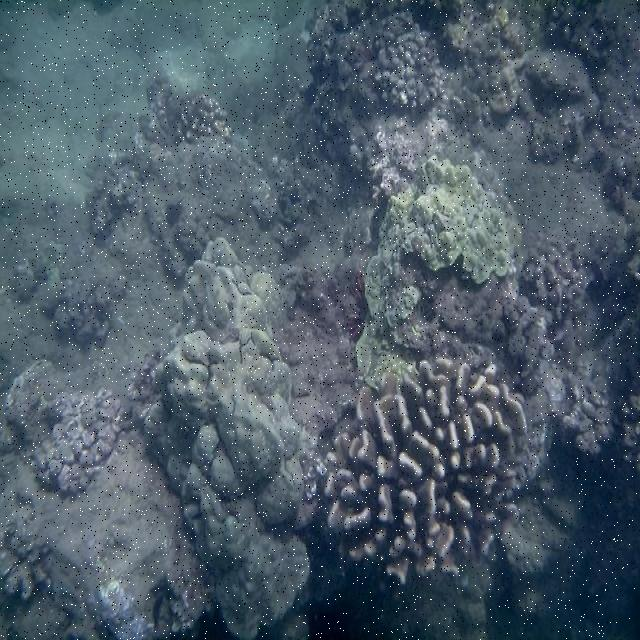reefs: (124, 239, 312, 638), (323, 350, 531, 583), (354, 155, 520, 385), (496, 229, 639, 464), (28, 385, 121, 496), (137, 75, 232, 146), (45, 275, 126, 346), (375, 27, 445, 108)
